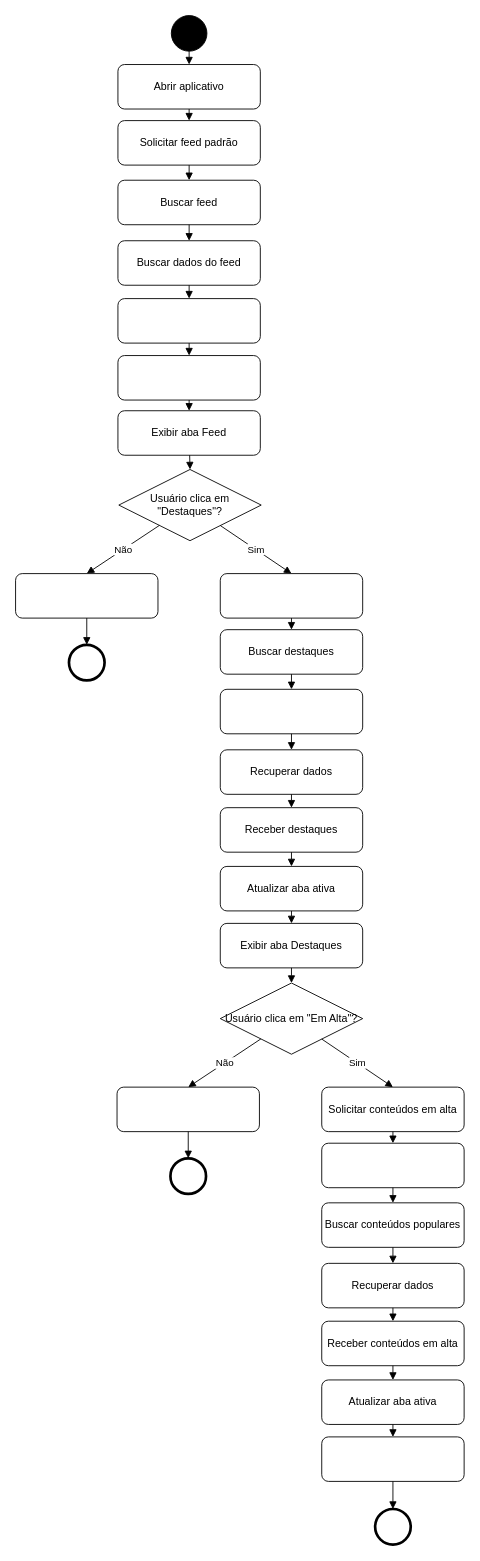
This 480x1561 diagram has some shape labels left out. The shapes that lost their labels are listed below. From the top down, each one's box as (x1, y1, x2, y2) in pixels, then its label:
(117, 298, 260, 343): Recuperar dados do feed
(117, 355, 260, 400): Receber feed
(15, 573, 158, 618): (permanece na aba Feed)
(219, 573, 363, 618): Solicitar destaques
(219, 688, 363, 734): Buscar conteúdos em destaque
(116, 1086, 259, 1132): (permanece em Destaques)
(321, 1142, 464, 1188): Buscar tendências
(321, 1436, 464, 1481): Exibir aba Em Alta
